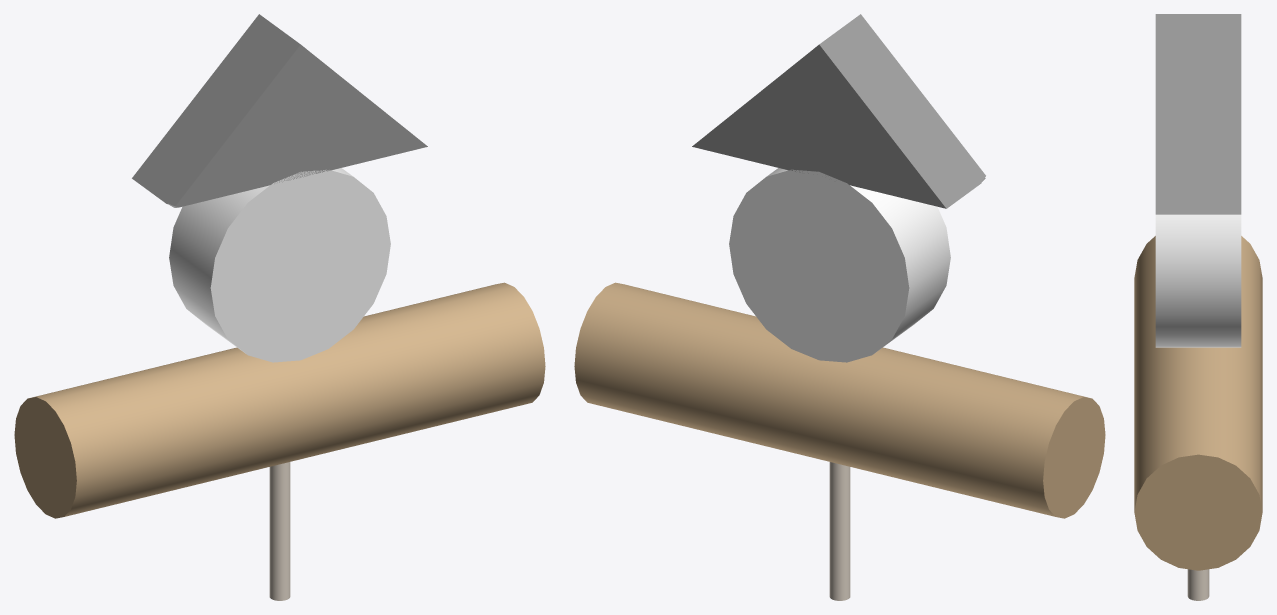
File: odenn.fbx
The picture shows the model from 3 angles, left to right: view 1: azimuth 30°, elevation 25°; view 2: azimuth 150°, elevation 25°; view 3: azimuth 270°, elevation 25°; orthographic projection. The views are drawn at different scales.
Parts seen in each view (by area): view 1: pCylinder4; view 2: pCylinder4; view 3: pCylinder4.
Boxes of the visible parts, x1,y1,x2,y2 form: pCylinder4: (14,14,545,600); pCylinder4: (574,14,1105,600); pCylinder4: (1134,14,1262,600).
Bounding box in the file's own units: 2.6 × 3.01 × 0.6.
1 material, 1 textured.
